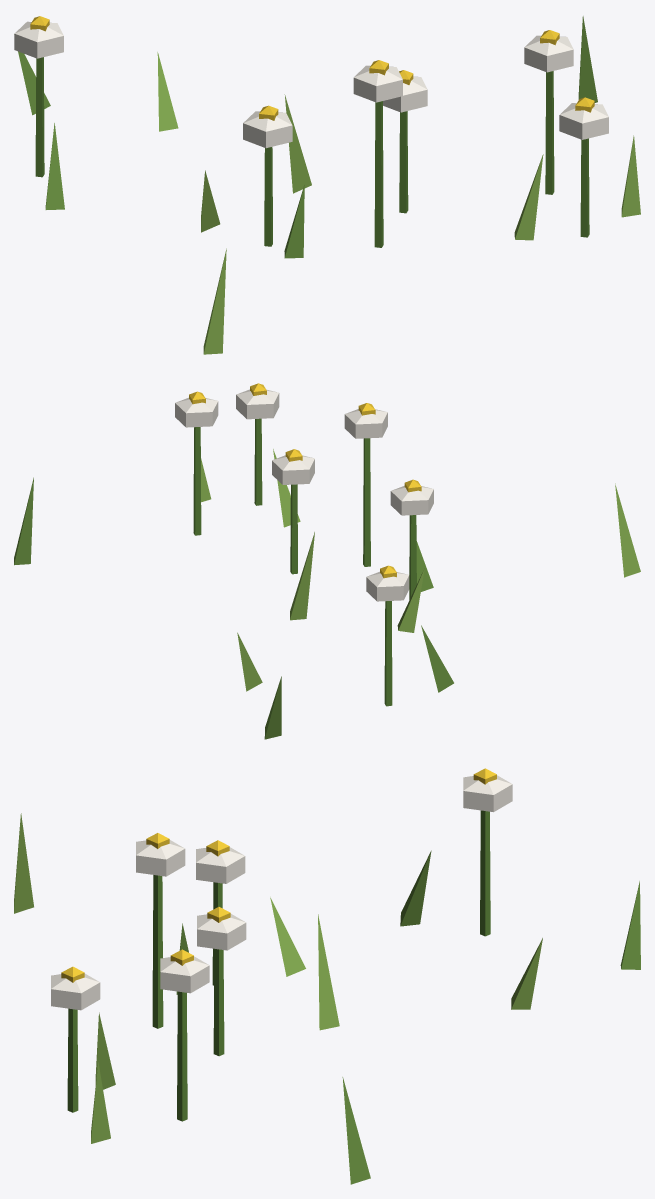
Rendered from cover_flowers_white.glb.
3 renders of one model, top to bottom at view 1: azimuth 30°, elevation 25°; view 2: azimuth 150°, elevation 25°; view 3: azimuth 270°, elevation 25°, orthographic. The views are drawn at different scales.
Visible parts, largest first — view 1: scatter_flowers_white; view 2: scatter_flowers_white; view 3: scatter_flowers_white.
Part boxes in pixels (x1,y1,x2,y2): scatter_flowers_white: (14, 16, 640, 354); scatter_flowers_white: (14, 383, 640, 739); scatter_flowers_white: (14, 768, 640, 1184).
Size of the model in its own units: 1.49 by 0.4854 by 1.39.
